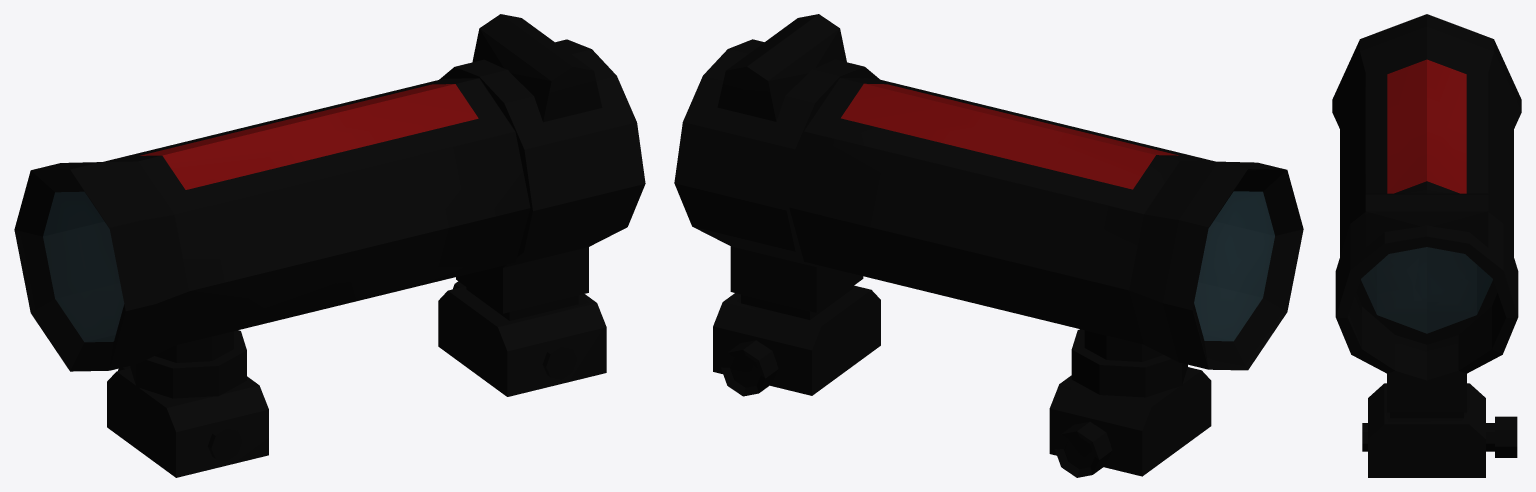
File: k-att-magnified-east.glb
The picture shows the model from 3 angles, left to right: view 1: azimuth 30°, elevation 25°; view 2: azimuth 150°, elevation 25°; view 3: azimuth 270°, elevation 25°; orthographic projection. The views are drawn at different scales.
Parts seen in each view (by area): view 1: kit (×3), lens; view 2: kit (×3), lens; view 3: kit (×3), lens.
Boxes of the visible parts, bbox=[...] form: kit (×3): bbox=[14, 14, 645, 477]; lens: bbox=[43, 191, 124, 342]; kit (×3): bbox=[674, 14, 1303, 477]; lens: bbox=[1194, 191, 1274, 341]; kit (×3): bbox=[1332, 14, 1521, 477]; lens: bbox=[1361, 247, 1492, 333].
Bounding box in the file's own units: 0.122 × 0.0705 × 0.0451.
